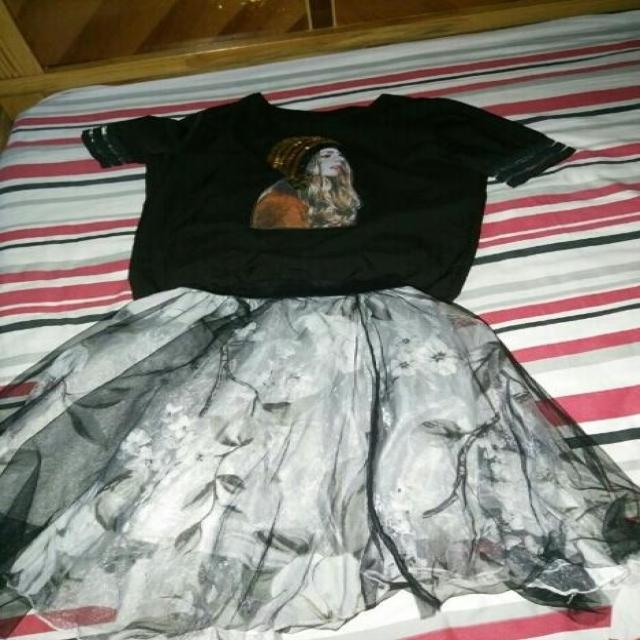short sleeve top: (83, 94, 573, 305)
skirt: (3, 287, 636, 629)
